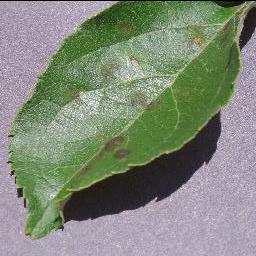apple healthy: (5, 0, 255, 239)
